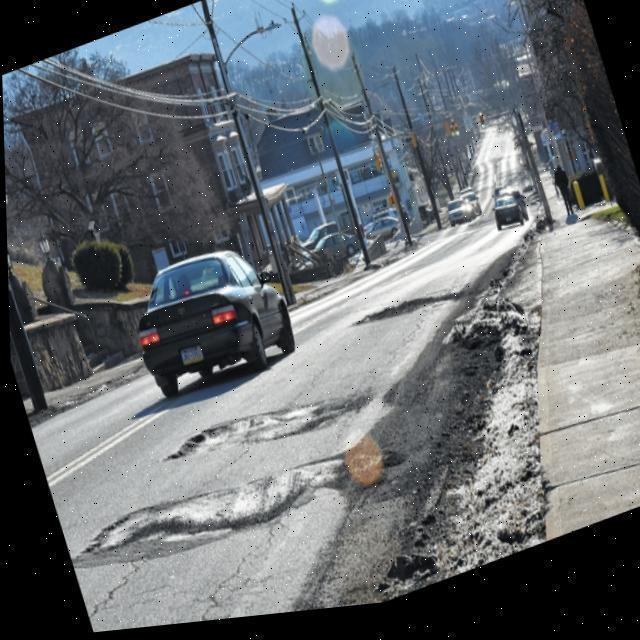Pothole: (71, 449, 410, 569), (162, 386, 375, 464)
